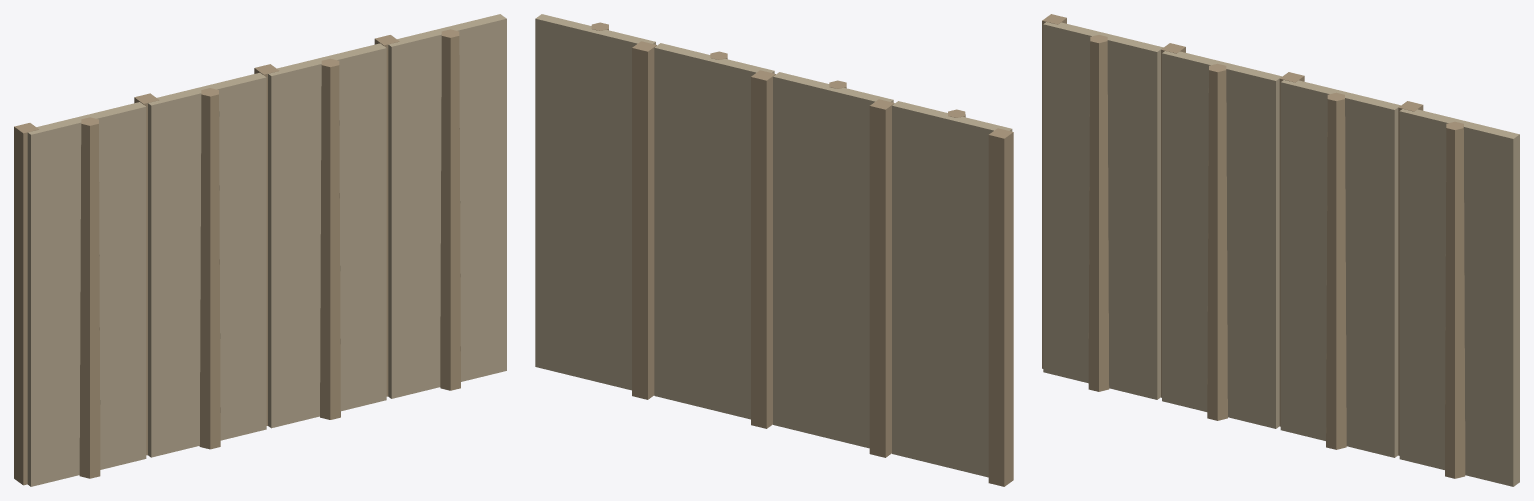
Rendered from trench-line-1917-revetment-frame-bb3ce1e0__24043.glb.
3 renders of one model, left to right at view 1: azimuth 30°, elevation 25°; view 2: azimuth 150°, elevation 25°; view 3: azimuth 330°, elevation 25°, orthographic.
Visible parts, largest first — view 1: revetment-frame; view 2: revetment-frame; view 3: revetment-frame.
Boxes of the visible parts, left/top/right/bottom form: revetment-frame: left=14, top=14, right=506, bottom=486; revetment-frame: left=535, top=14, right=1013, bottom=486; revetment-frame: left=1042, top=14, right=1519, bottom=486.
Bounding box in the file's own units: 3 × 2.1 × 0.2062.
